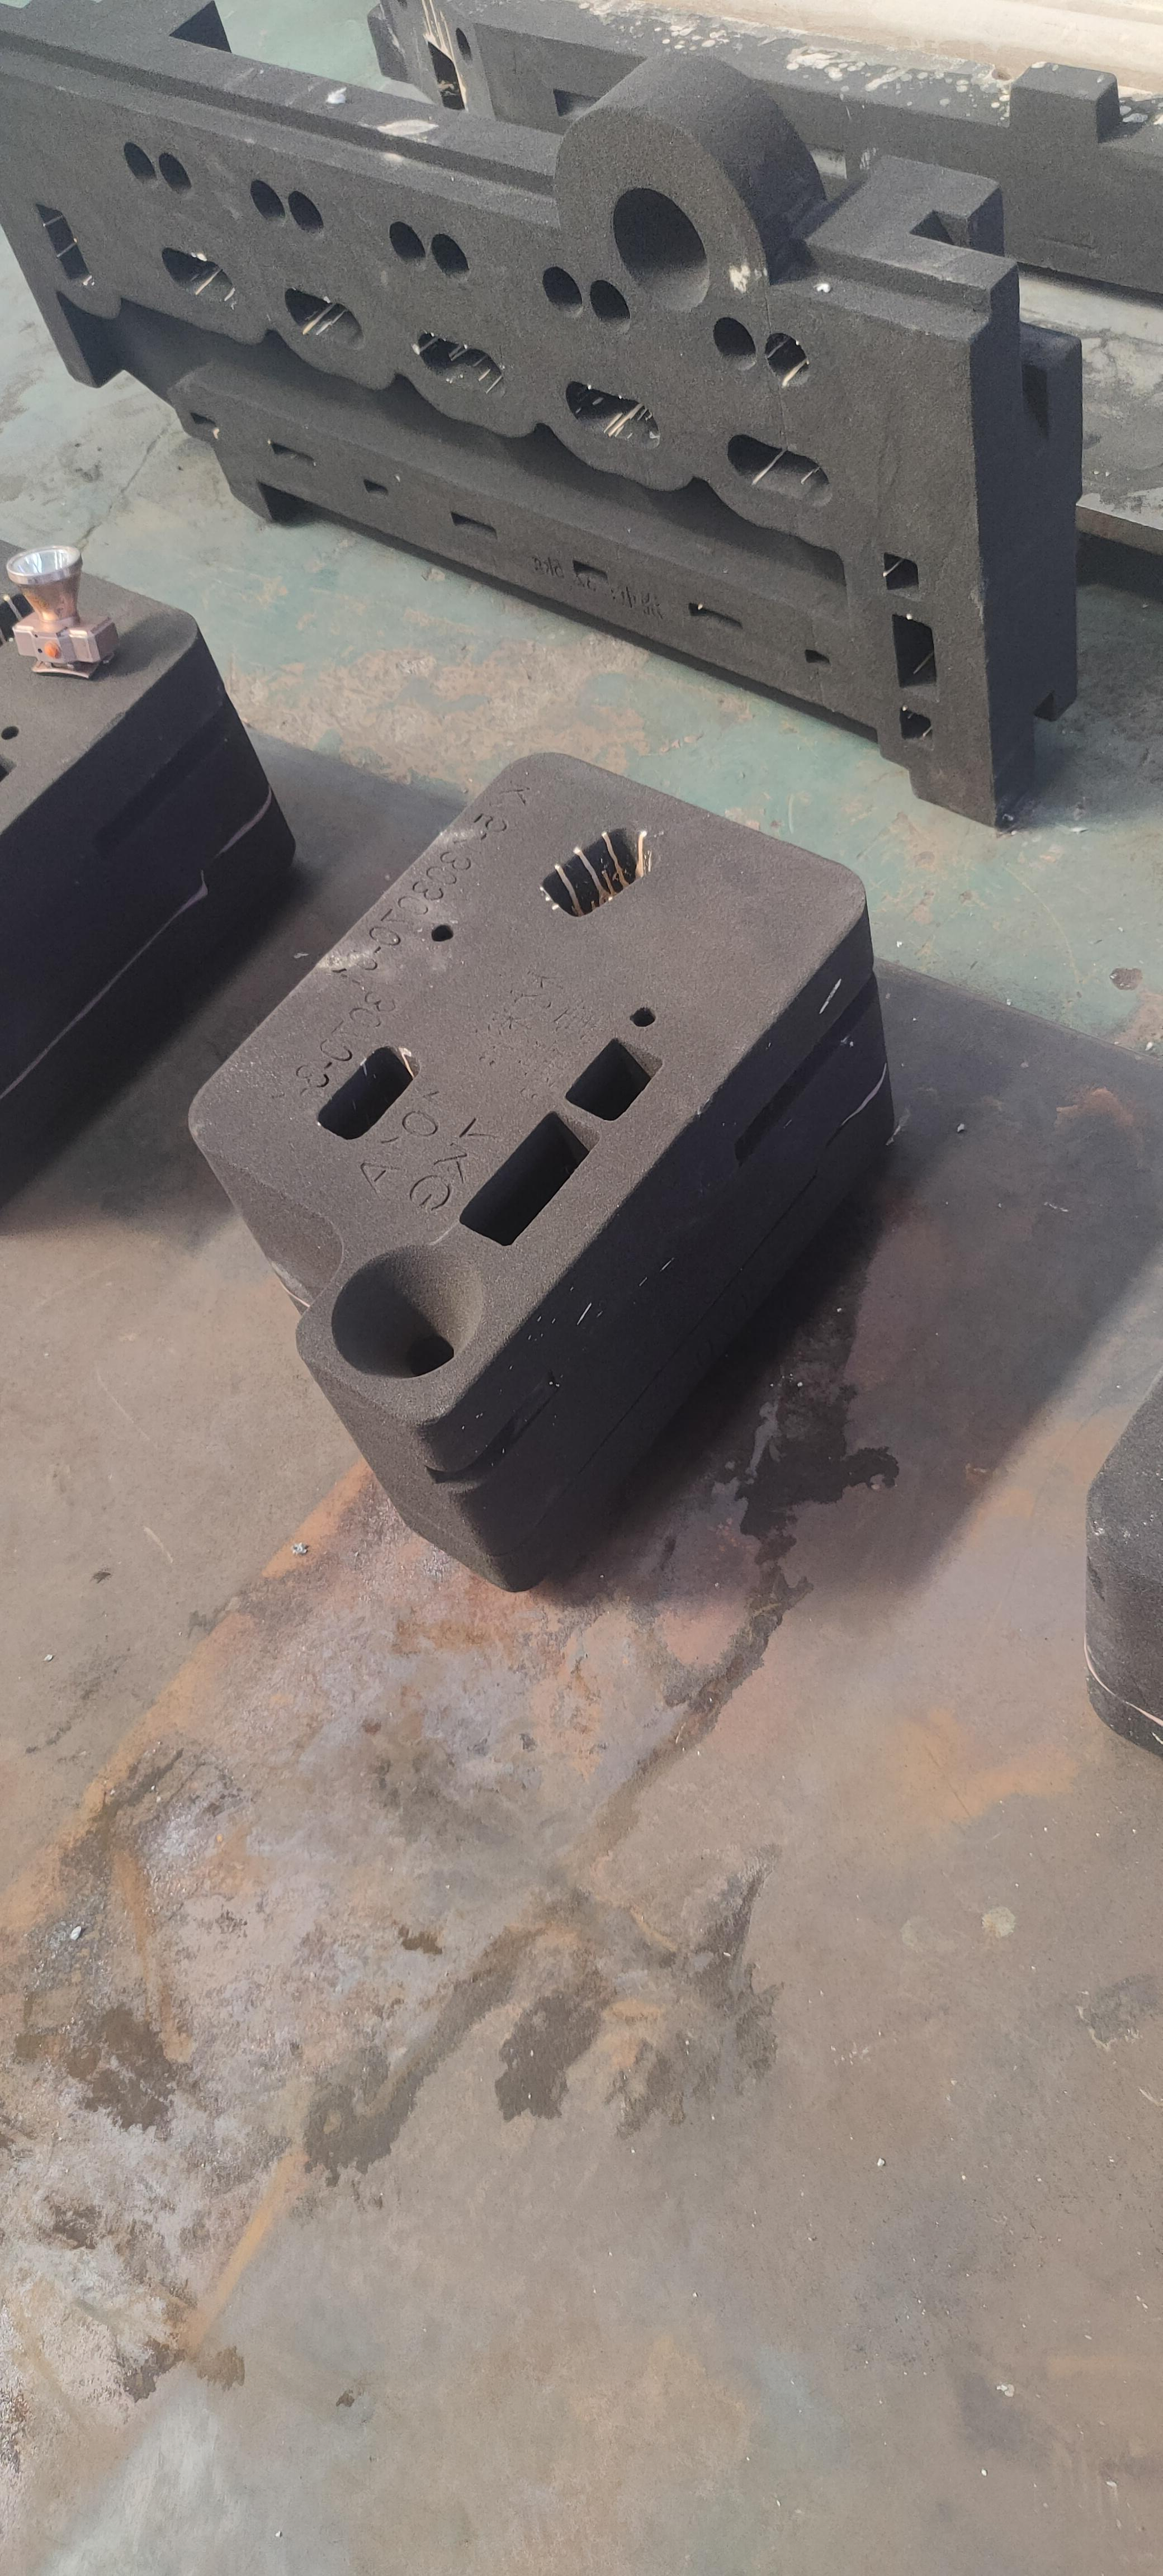pouring hole: (329, 1242, 478, 1375), (608, 189, 711, 322)
